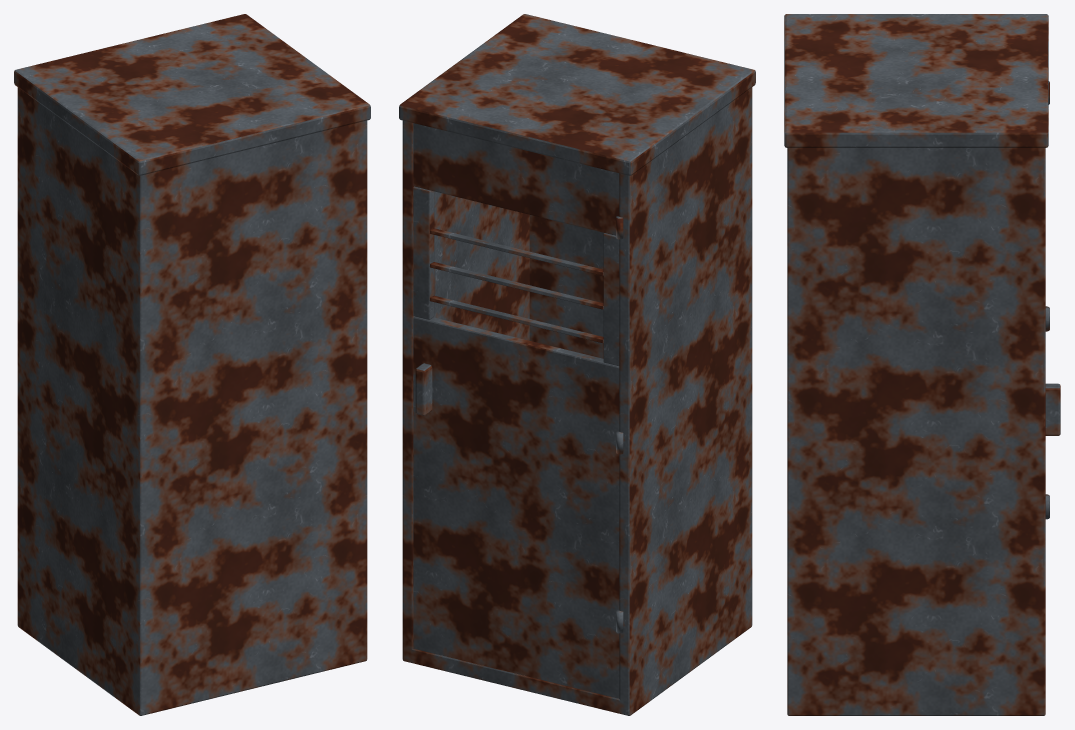
File: locker_metal.glb
3 views of the same model, side by side, from view 1: azimuth 30°, elevation 25°; view 2: azimuth 150°, elevation 25°; view 3: azimuth 270°, elevation 25° (orthographic). The views are drawn at different scales.
Visible parts, largest first — view 1: BackWall, LeftWall, TopRoof, BottomFloor, RightWall; view 2: LeftWall, DoorLow, TopRoof, RightWall, DoorTop, BackWall, BottomFloor, DoorStileR, DoorStileL, VentSlat_1, VentSlat_0, VentSlat_2 (+1 smaller); view 3: RightWall, TopRoof, BackWall, LeftWall, DoorHandle, BottomFloor.
Part boxes in pixels (x1,y1,x2,y2): BackWall: [134, 100, 367, 715]; LeftWall: [17, 68, 149, 713]; TopRoof: [14, 14, 370, 175]; BottomFloor: [17, 613, 367, 714]; RightWall: [236, 15, 366, 662]; LeftWall: [619, 68, 751, 714]; DoorLow: [413, 316, 619, 698]; TopRoof: [399, 14, 755, 175]; RightWall: [402, 16, 533, 662]; DoorTop: [413, 123, 619, 235]; BackWall: [521, 15, 752, 629]; BottomFloor: [402, 613, 752, 715]; DoorStileR: [413, 186, 434, 319]; DoorStileL: [603, 233, 619, 366]; VentSlat_1: [430, 262, 603, 309]; VentSlat_0: [430, 295, 603, 343]; VentSlat_2: [430, 228, 603, 275]; RightWall: [789, 126, 1045, 714]; TopRoof: [784, 14, 1048, 147]; BackWall: [787, 15, 798, 715]; LeftWall: [794, 15, 1043, 19]; DoorHandle: [1045, 383, 1060, 435]; BottomFloor: [787, 702, 1045, 715].
Size of the model in its own units: 0.94 by 2.15 by 0.92.
2 materials, 2 textured.
